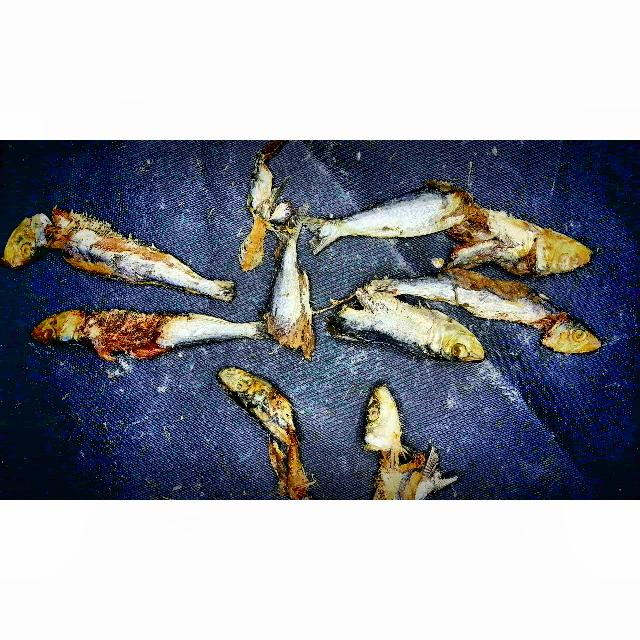Rejected_Body: (54, 209, 187, 295), (418, 268, 551, 333), (352, 181, 476, 240), (102, 309, 227, 361), (326, 285, 416, 352), (260, 253, 316, 358), (448, 204, 535, 269), (258, 431, 317, 500), (363, 450, 422, 500)
Rejected_Head: (212, 362, 300, 437), (528, 295, 602, 367), (522, 213, 595, 283), (5, 211, 78, 272), (358, 378, 409, 458), (28, 310, 116, 355)
Rejected_Tail: (237, 186, 281, 240), (195, 266, 237, 304)
